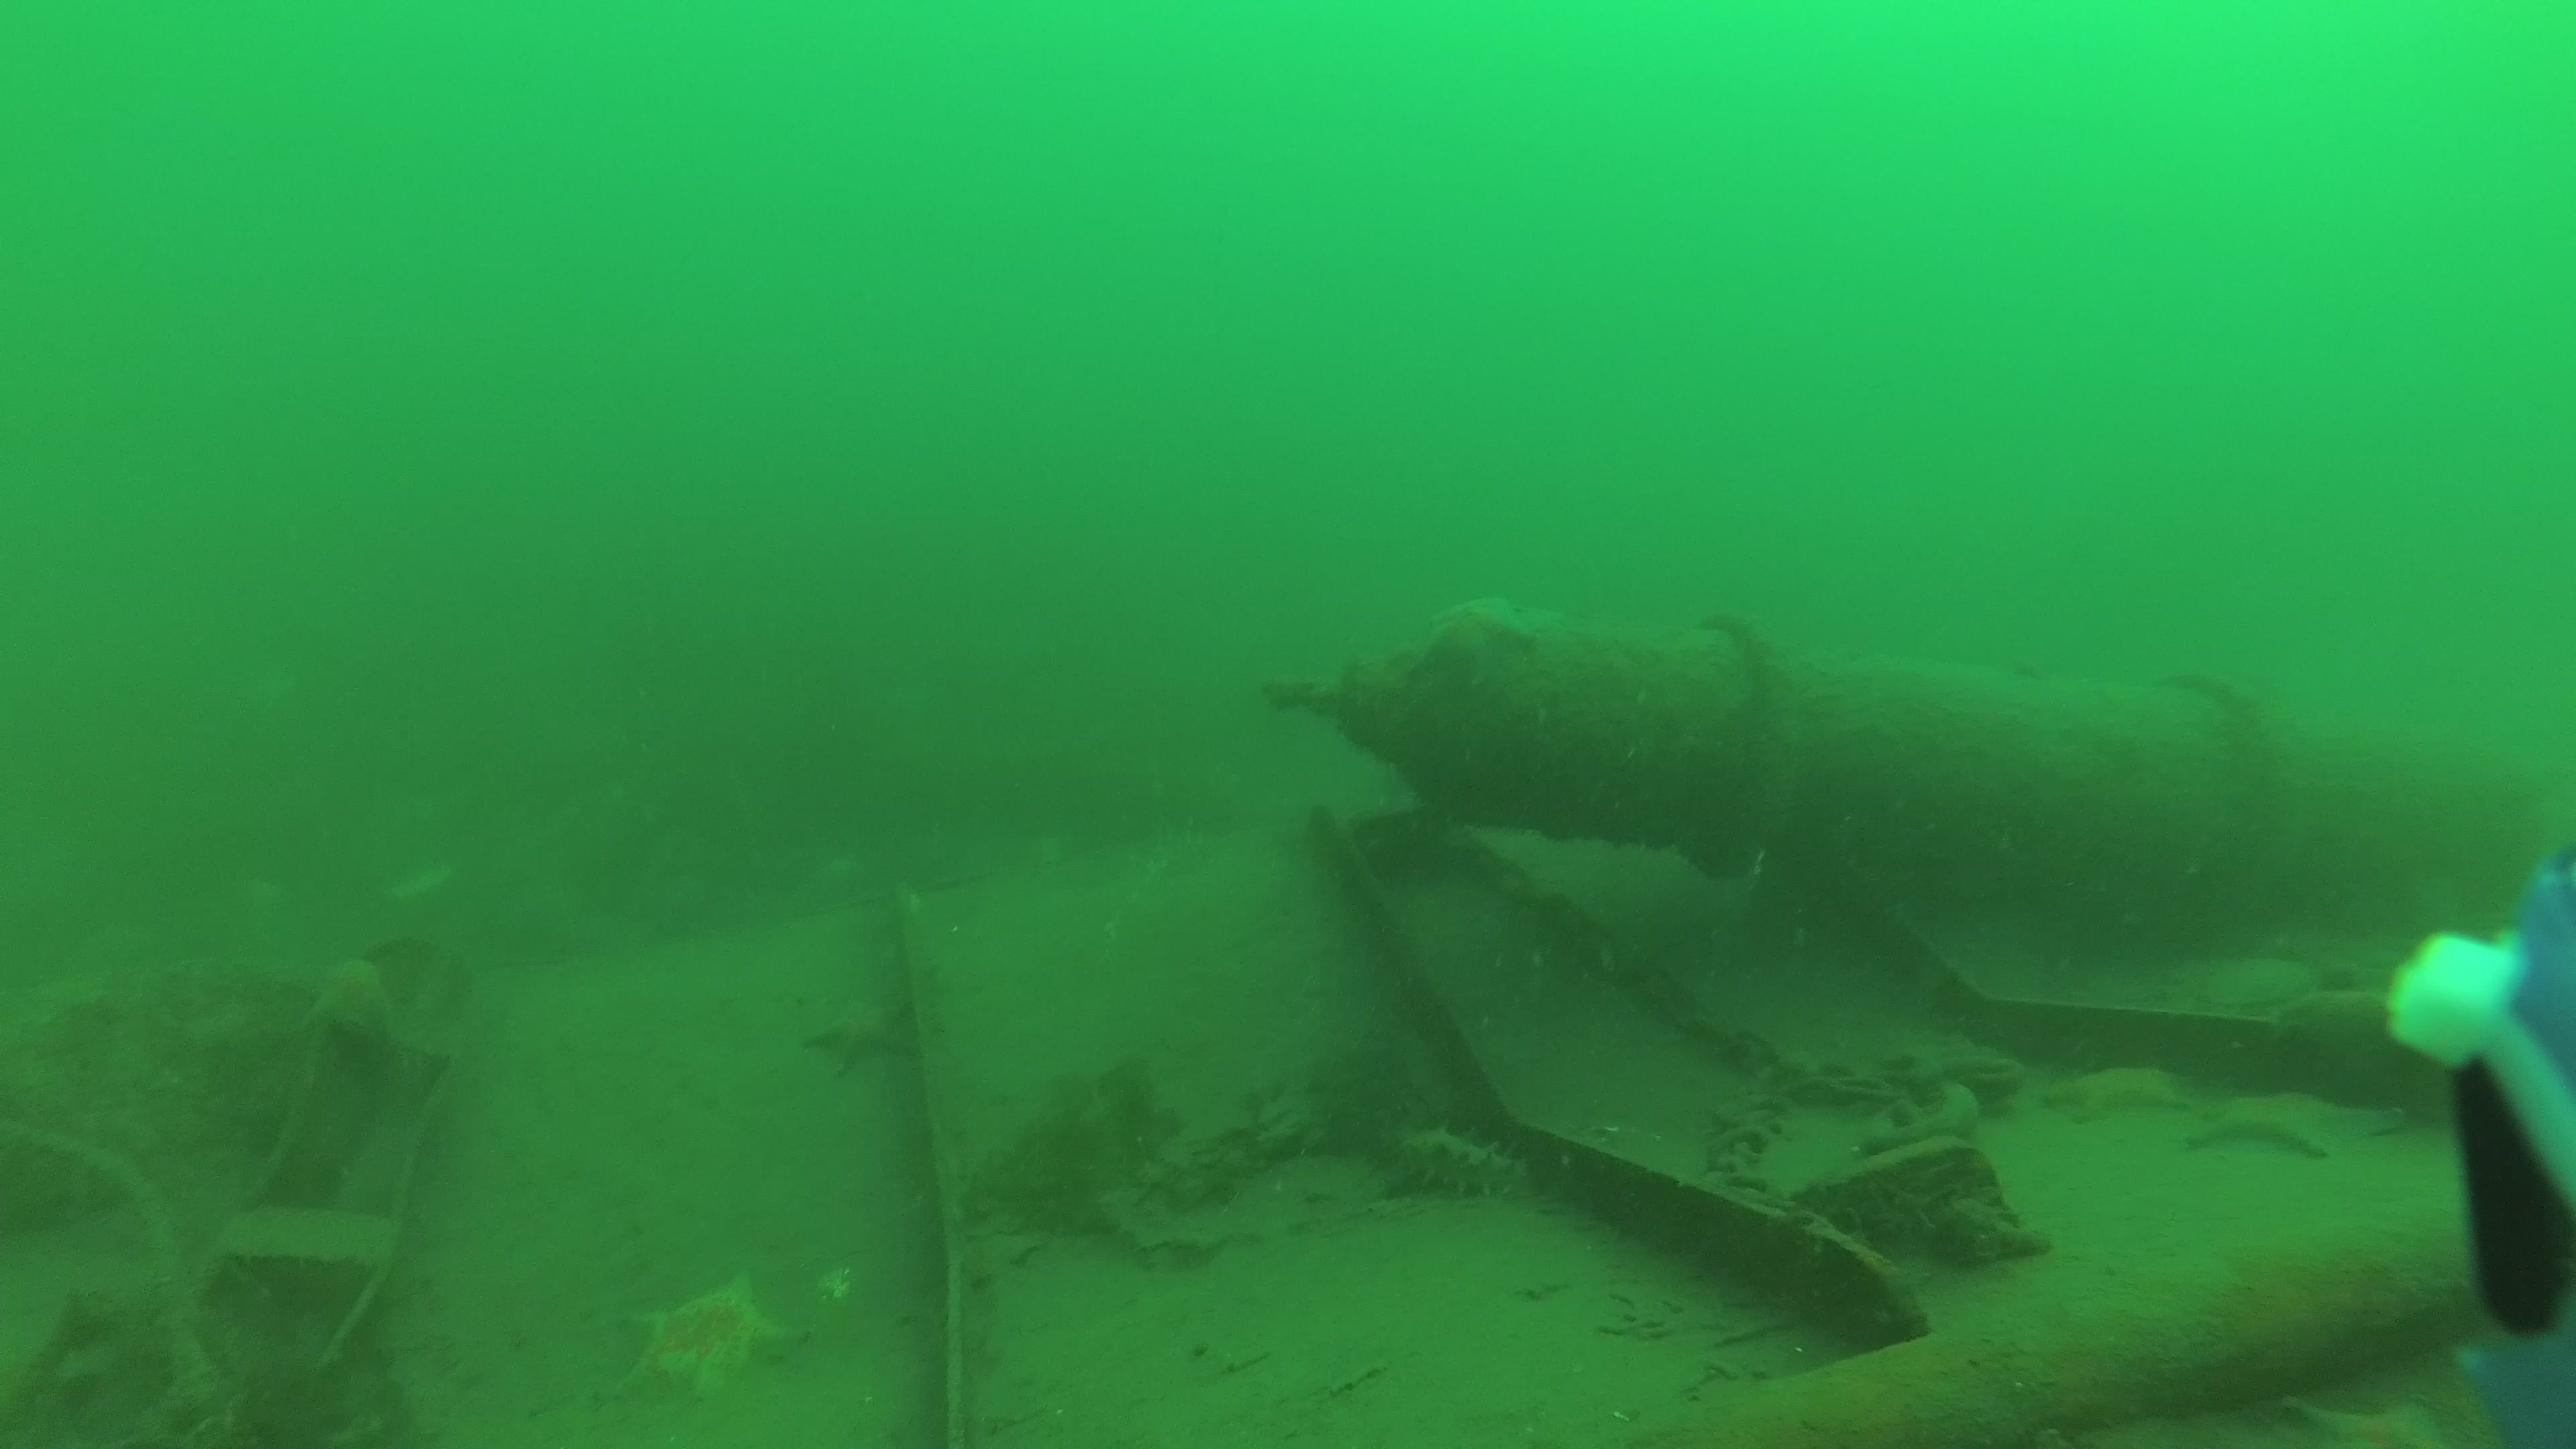holothurian: (1380, 1134, 1541, 1205)
starfish: (639, 1270, 796, 1410), (2187, 1086, 2394, 1166), (1421, 594, 1539, 695), (2275, 1387, 2445, 1449), (2033, 1063, 2187, 1129), (805, 1001, 920, 1074)
